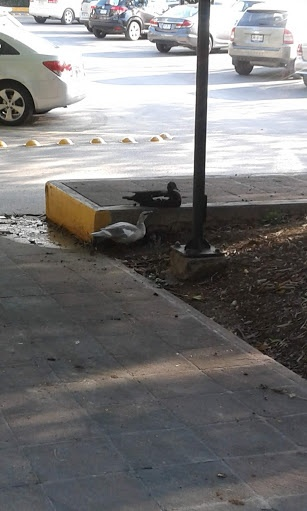pato: (91, 213, 149, 246), (128, 182, 179, 208)
